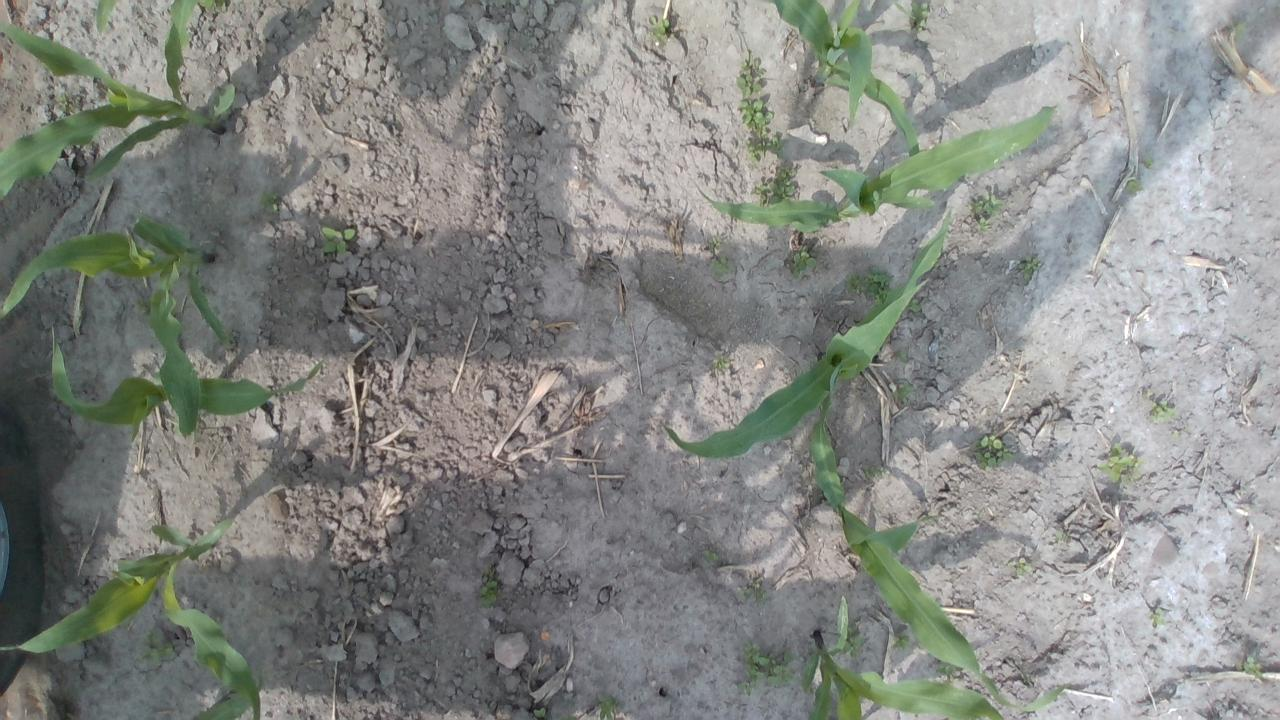Maize: (808, 364, 1062, 715), (666, 206, 952, 463), (0, 214, 235, 440), (0, 517, 261, 720), (694, 104, 1058, 231), (0, 0, 235, 196), (46, 330, 322, 444), (800, 596, 1004, 720), (770, 0, 920, 157), (95, 0, 220, 36), (186, 690, 248, 720)
Weeds: (738, 641, 796, 696), (1098, 443, 1144, 485), (754, 162, 796, 208), (846, 266, 891, 306), (744, 126, 784, 165), (968, 192, 1004, 232), (974, 434, 1014, 470), (735, 57, 765, 100), (144, 630, 174, 668), (737, 99, 774, 126), (322, 226, 356, 255), (792, 244, 817, 278), (1148, 398, 1178, 423), (907, 1, 929, 33), (595, 693, 620, 720), (1017, 255, 1042, 282), (480, 575, 500, 608), (845, 624, 865, 656), (649, 15, 670, 43), (256, 190, 280, 212), (1242, 654, 1263, 679), (937, 660, 962, 676), (894, 382, 914, 402), (711, 256, 733, 274), (1013, 558, 1033, 576), (54, 94, 72, 113), (752, 582, 768, 602), (1150, 607, 1166, 627), (862, 466, 888, 478), (1126, 178, 1144, 195), (132, 295, 150, 312), (906, 296, 922, 314), (891, 635, 910, 650), (712, 354, 729, 368), (532, 706, 547, 720), (703, 550, 720, 561), (708, 235, 722, 248), (895, 350, 909, 362), (1234, 21, 1248, 33), (1056, 530, 1068, 542), (558, 713, 576, 720), (1144, 157, 1154, 167)
